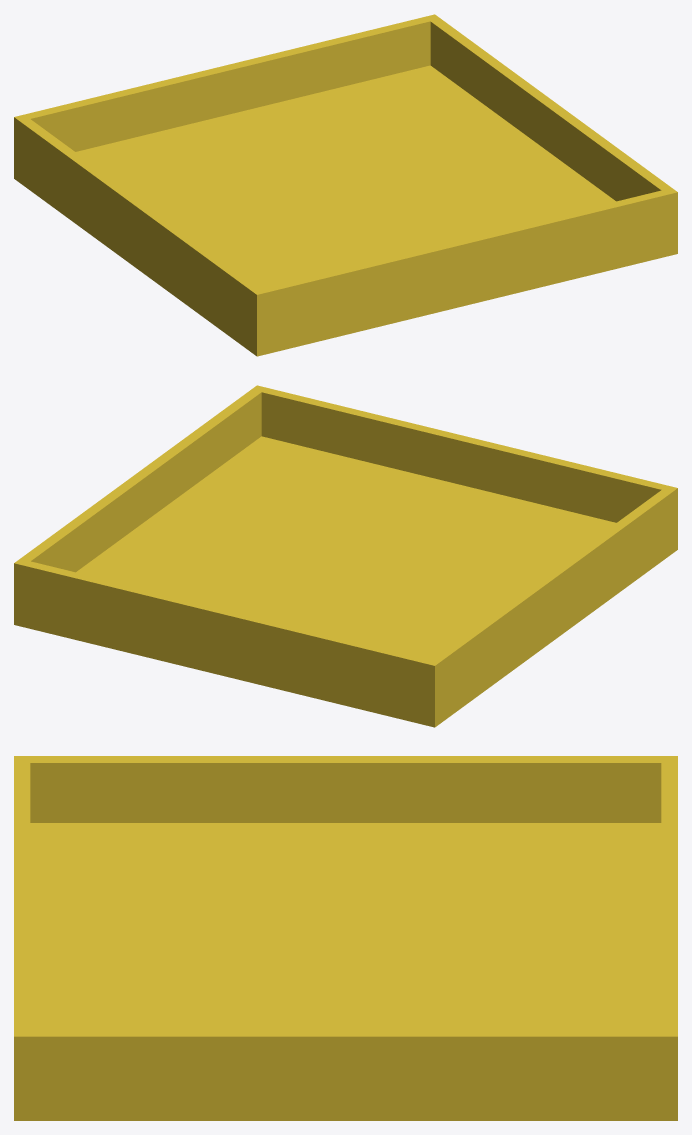
The model's file is yellow_tray.dae.
3 views of the same model, one above another, from view 1: azimuth 30°, elevation 25°; view 2: azimuth 150°, elevation 25°; view 3: azimuth 270°, elevation 25° (orthographic). The views are drawn at different scales.
Parts seen in each view (by area): view 1: Cube; view 2: Cube; view 3: Cube.
Part boxes in pixels (left/top/right/bottom): Cube: left=14, top=14, right=677, bottom=356; Cube: left=14, top=385, right=677, bottom=727; Cube: left=14, top=756, right=677, bottom=1120.
Size of the model in its own units: 0.5 by 0.5 by 0.07.
